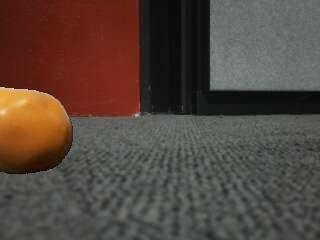Potato: (0, 85, 72, 174)
